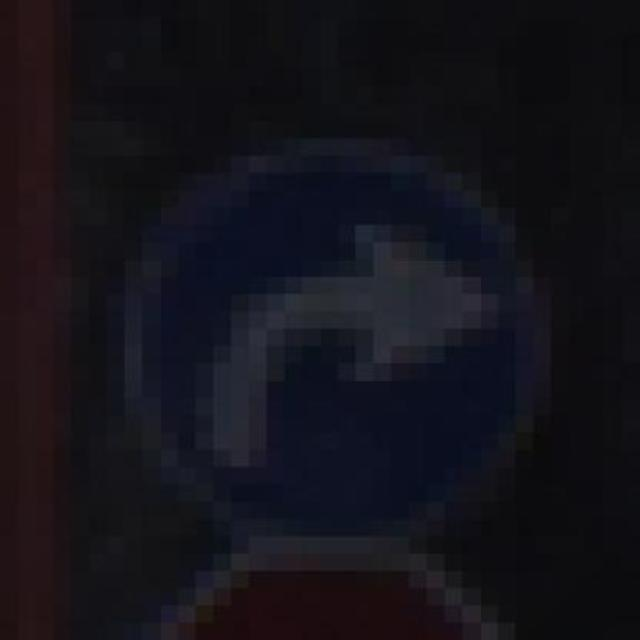Turn right ahead: (125, 104, 569, 588)
